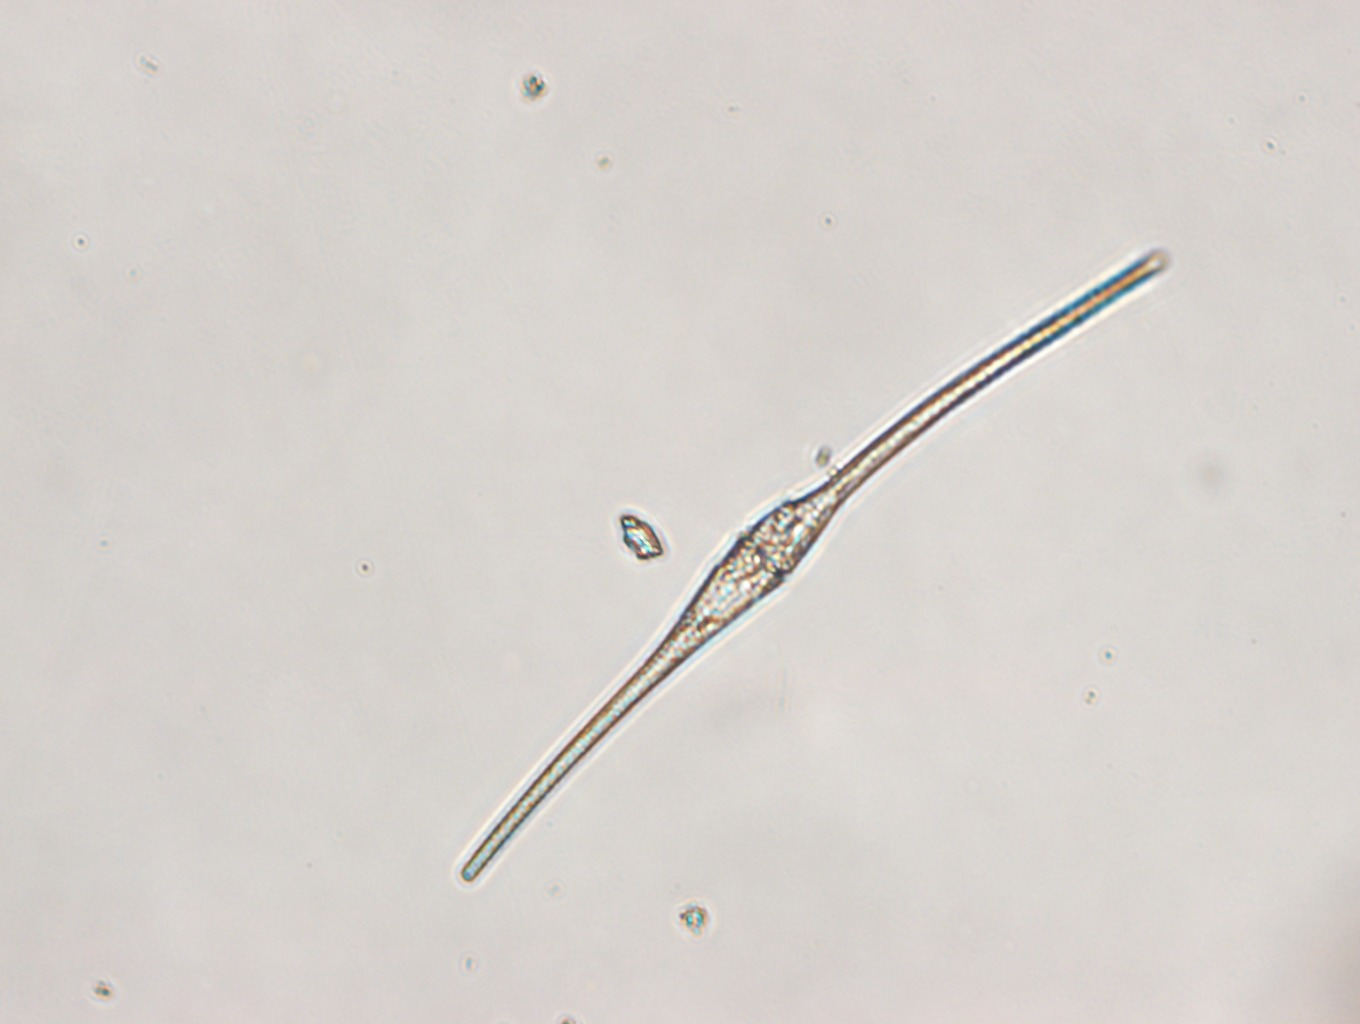ceratium fusus: (455, 245, 1176, 888)
